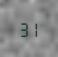one: (29, 20, 38, 37)
three: (19, 20, 28, 37)
